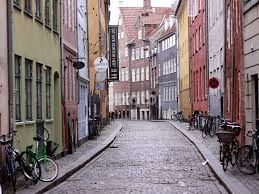strada: (71, 121, 228, 191)
